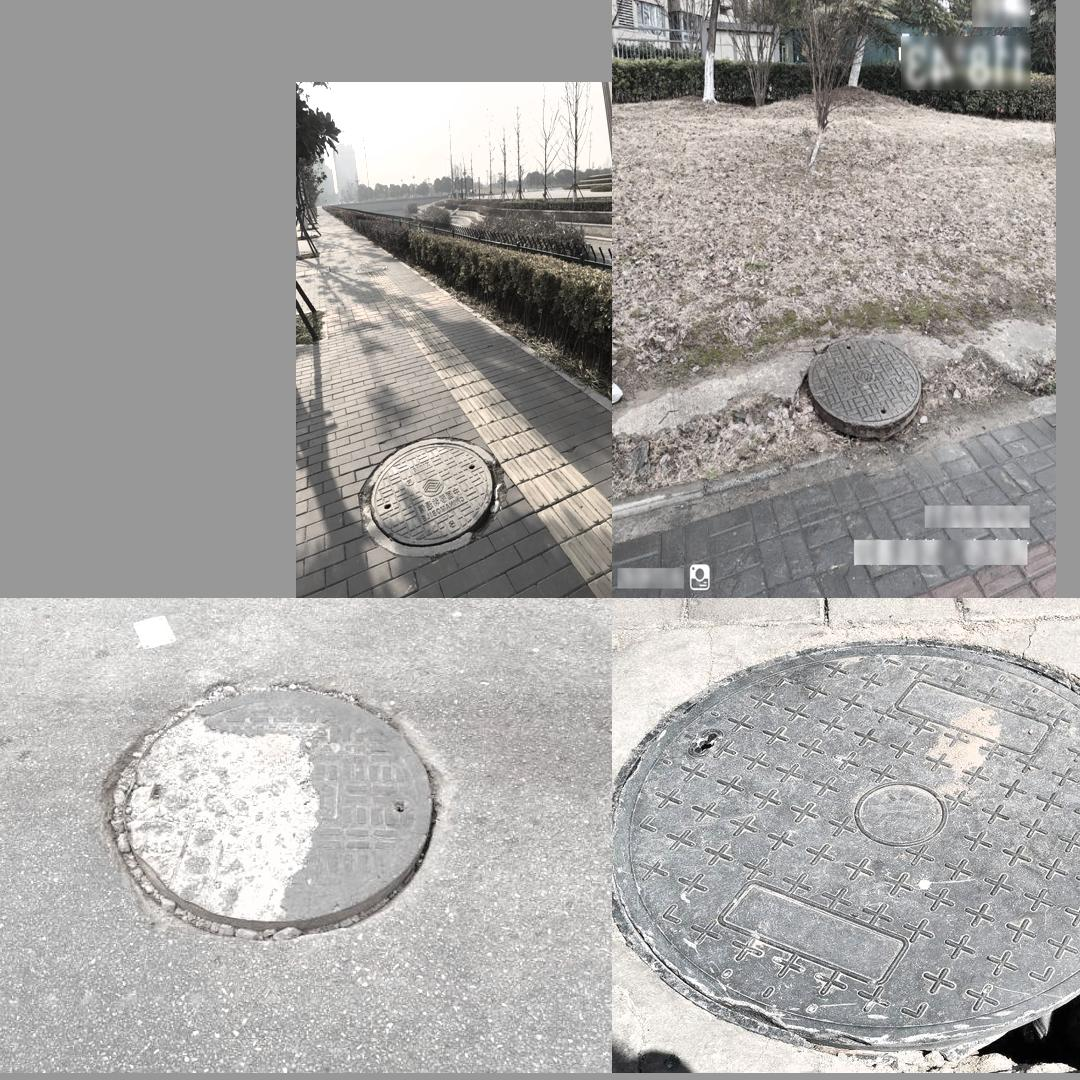circle: (624, 642, 1080, 1059), (84, 665, 452, 946), (357, 437, 506, 556), (802, 333, 924, 437)
